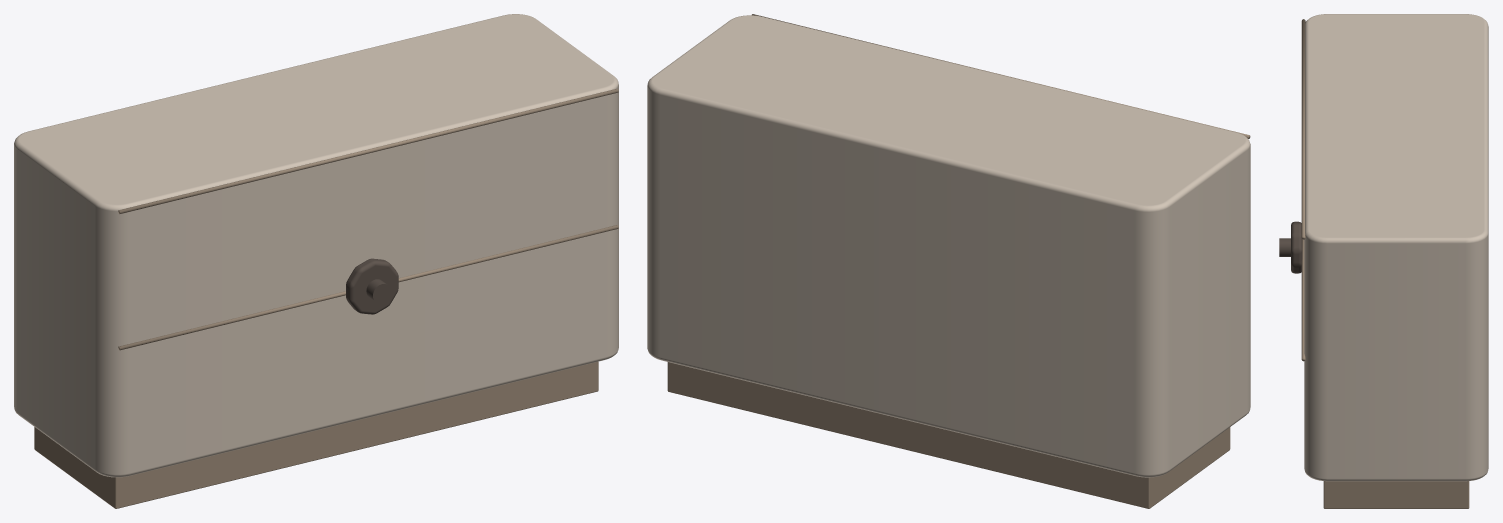
File: neva-bed-set-with-wardrobe--dresser.glb
3 renders of one model, left to right at view 1: azimuth 30°, elevation 25°; view 2: azimuth 150°, elevation 25°; view 3: azimuth 270°, elevation 25°, orthographic. The views are drawn at different scales.
Parts seen in each view (by area): view 1: body, plinth, line1, line0, pull; view 2: body, plinth; view 3: body, plinth, line1, pull, line0.
Part boxes in pixels (left/top/right/bottom): body: left=14, top=14, right=618, bottom=477; plinth: left=34, top=361, right=598, bottom=508; line1: left=118, top=88, right=618, bottom=214; line0: left=118, top=225, right=618, bottom=350; pull: left=346, top=258, right=398, bottom=314; body: left=647, top=15, right=1250, bottom=477; plinth: left=667, top=362, right=1230, bottom=508; body: left=1304, top=14, right=1488, bottom=481; plinth: left=1323, top=481, right=1469, bottom=508; line1: left=1301, top=19, right=1305, bottom=239; pull: left=1291, top=221, right=1302, bottom=273; line0: left=1301, top=239, right=1305, bottom=361.
Size of the model in its own units: 1.4 by 0.8 by 0.545.
